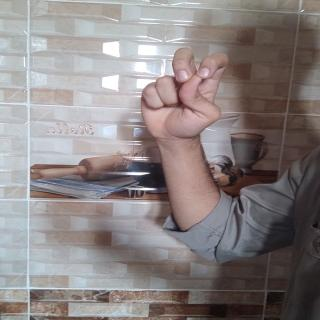QAAF: (134, 44, 231, 150)
